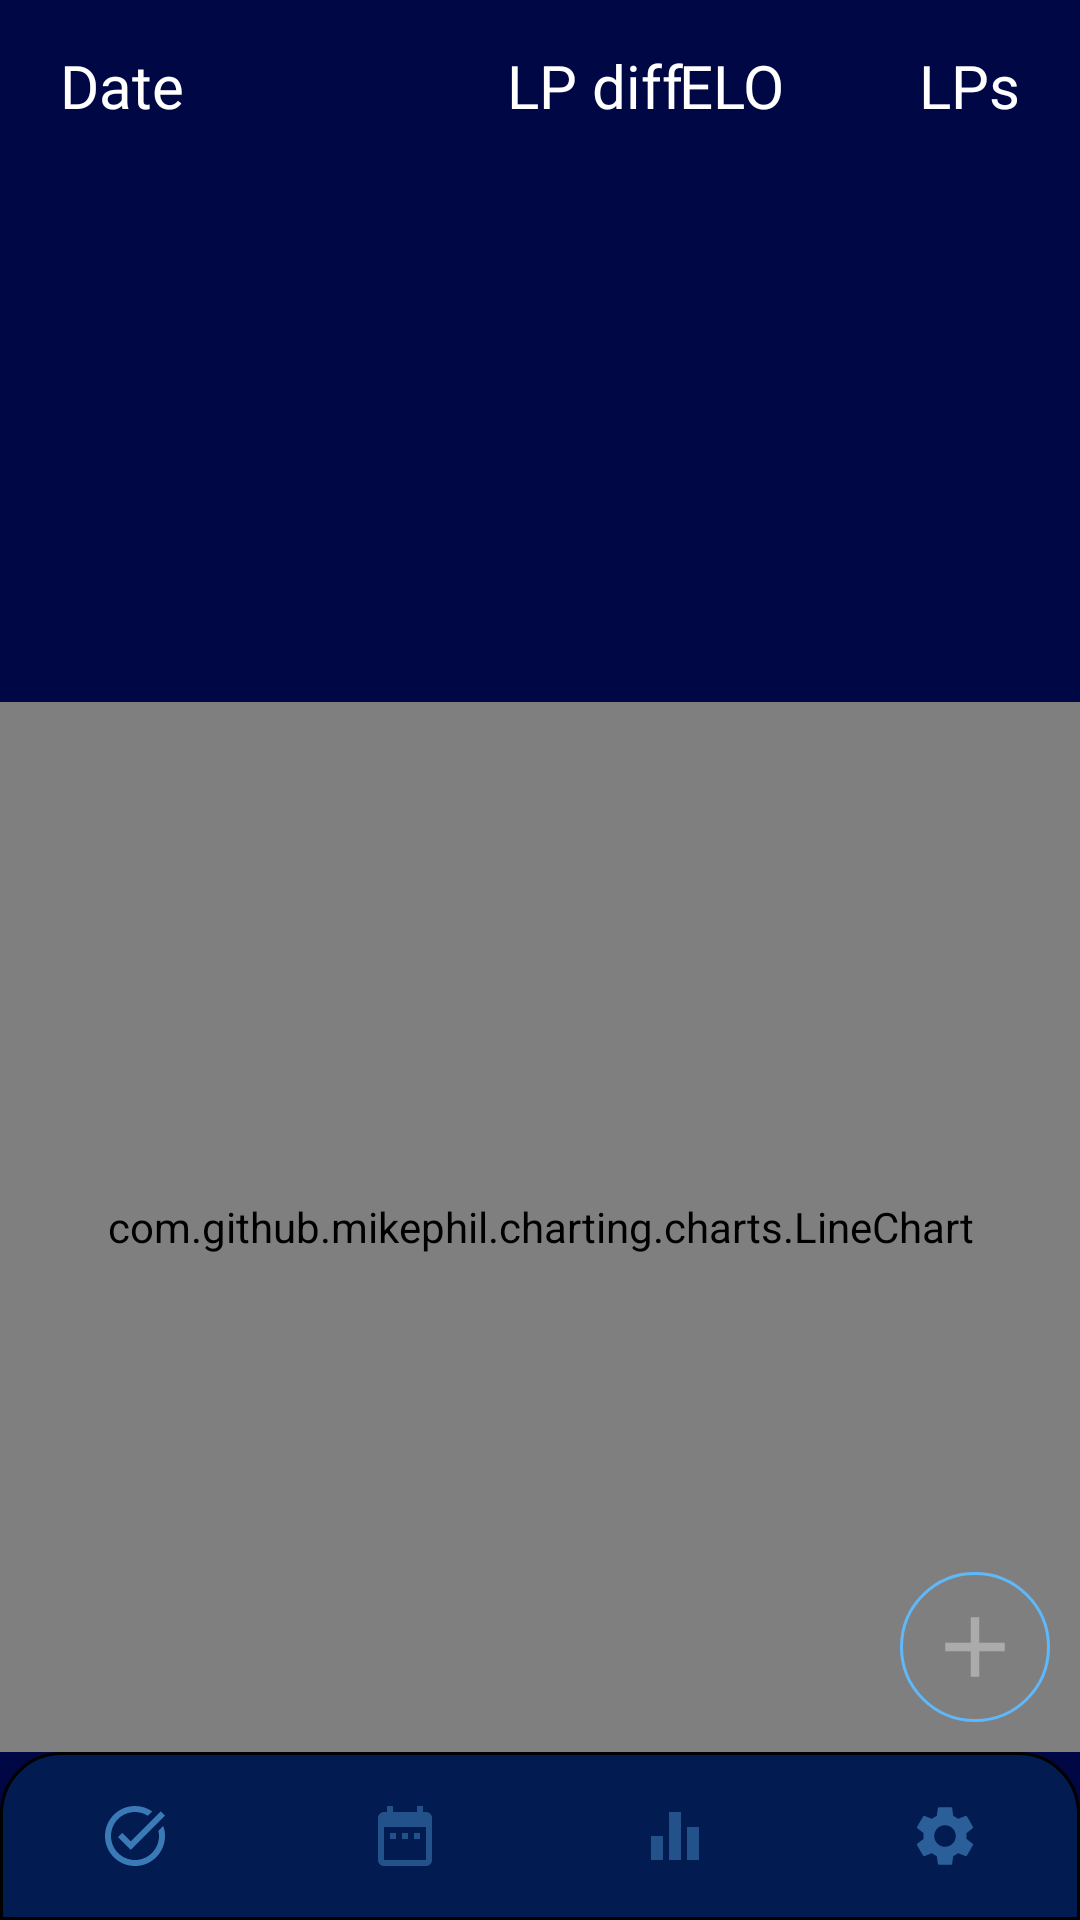

Named icons in this screenshot (1080 × 1920) and their bounding boxes, detection(x1, y1, x2, y2):
add: detection(900, 1572, 1050, 1722)
